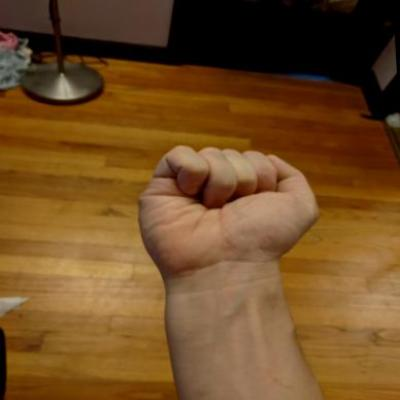hand: (127, 132, 330, 286)
